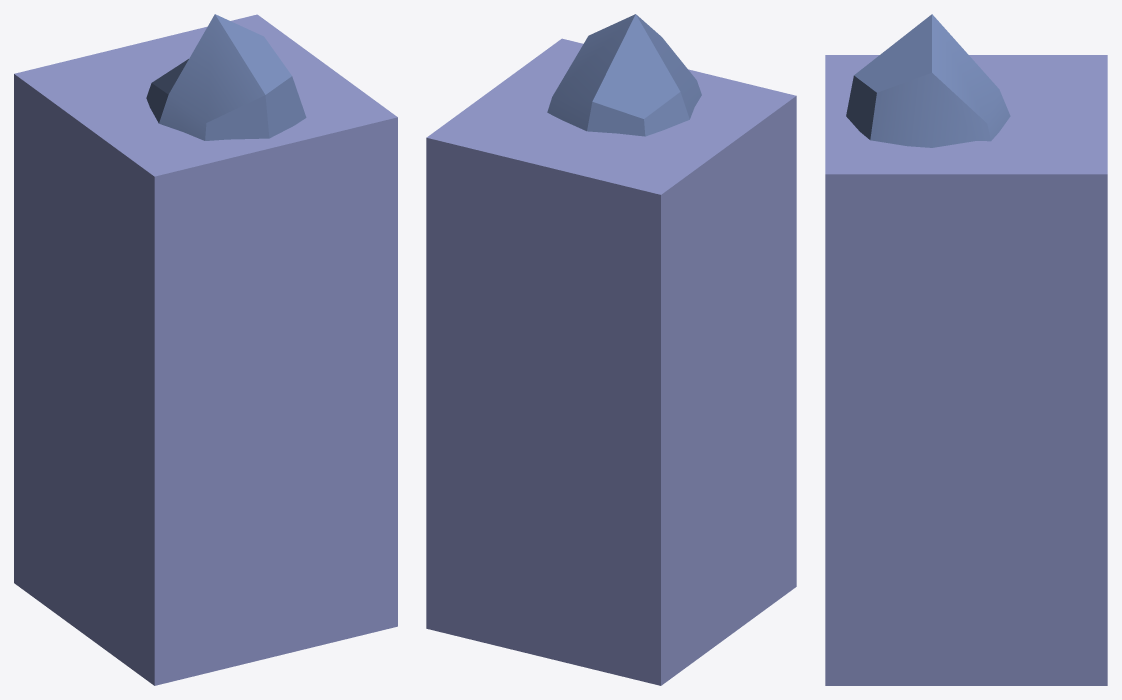
File: tallWithRock.fbx
3 views of the same model, side by side, from view 1: azimuth 30°, elevation 25°; view 2: azimuth 150°, elevation 25°; view 3: azimuth 270°, elevation 25° (orthographic). The views are drawn at different scales.
Parts seen in each view (by area): view 1: tallWRock; view 2: tallWRock; view 3: tallWRock.
Boxes of the visible parts, x1,y1,x2,y2 form: tallWRock: (14, 14, 397, 685); tallWRock: (426, 14, 796, 685); tallWRock: (825, 14, 1107, 685).
Size of the model in its own units: 200 by 475 by 200.
